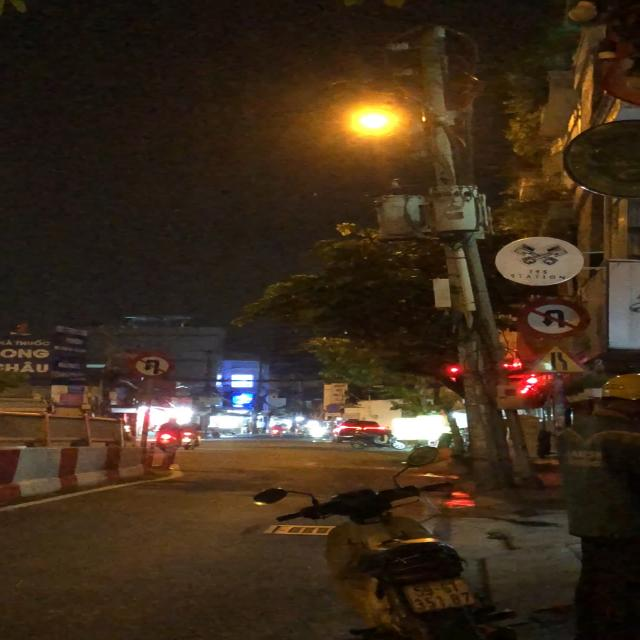Bien bao cam quay dau xe: (514, 298, 595, 338), (127, 351, 180, 381)
Bien bao duong bi thu hep: (522, 338, 600, 376)
